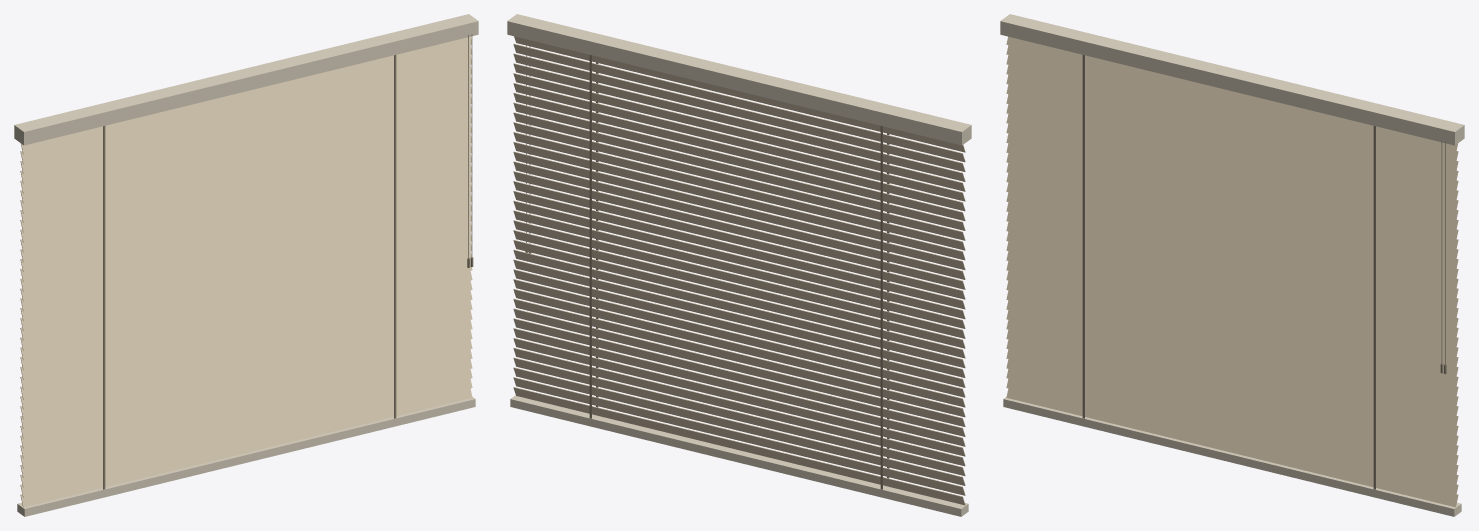
File: Blind_A_Double.fbx
The picture shows the model from 3 angles, left to right: view 1: azimuth 30°, elevation 25°; view 2: azimuth 150°, elevation 25°; view 3: azimuth 330°, elevation 25°; orthographic projection.
Visible parts, largest first — view 1: Blind_A_Double_Slats, Blind_A_Double_Rails, Blind_A_Double_Tapes_and_Pullcords; view 2: Blind_A_Double_Slats, Blind_A_Double_Rails, Blind_A_Double_Tapes_and_Pullcords; view 3: Blind_A_Double_Slats, Blind_A_Double_Rails, Blind_A_Double_Tapes_and_Pullcords.
Part boxes in pixels (x1=…): Blind_A_Double_Slats: x1=20, y1=36, x2=472, y2=507; Blind_A_Double_Rails: x1=14, y1=14, x2=478, y2=516; Blind_A_Double_Tapes_and_Pullcords: x1=103, y1=34, x2=473, y2=489; Blind_A_Double_Slats: x1=513, y1=36, x2=965, y2=505; Blind_A_Double_Rails: x1=507, y1=14, x2=971, y2=516; Blind_A_Double_Tapes_and_Pullcords: x1=525, y1=45, x2=889, y2=489; Blind_A_Double_Slats: x1=1006, y1=36, x2=1458, y2=507; Blind_A_Double_Rails: x1=1000, y1=14, x2=1464, y2=516; Blind_A_Double_Tapes_and_Pullcords: x1=1082, y1=55, x2=1446, y2=489.
Size of the model in its own units: 194 by 157 by 8.78.
